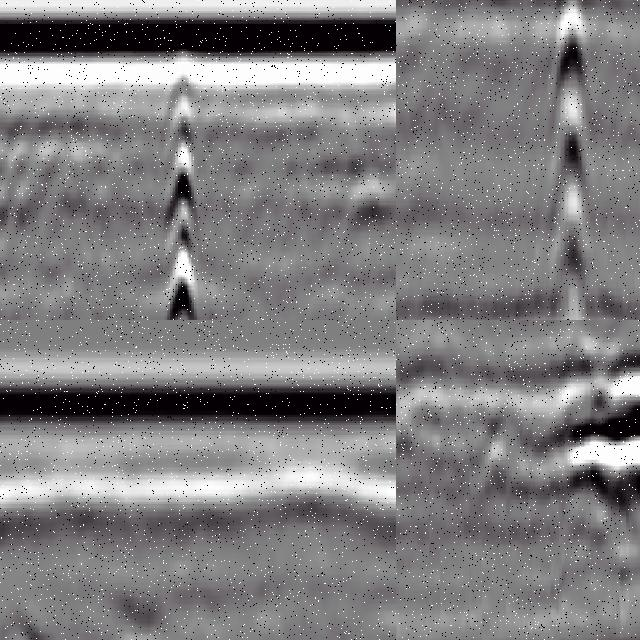crack: (164, 50, 201, 321), (556, 1, 587, 305)
loose: (495, 321, 640, 538)
